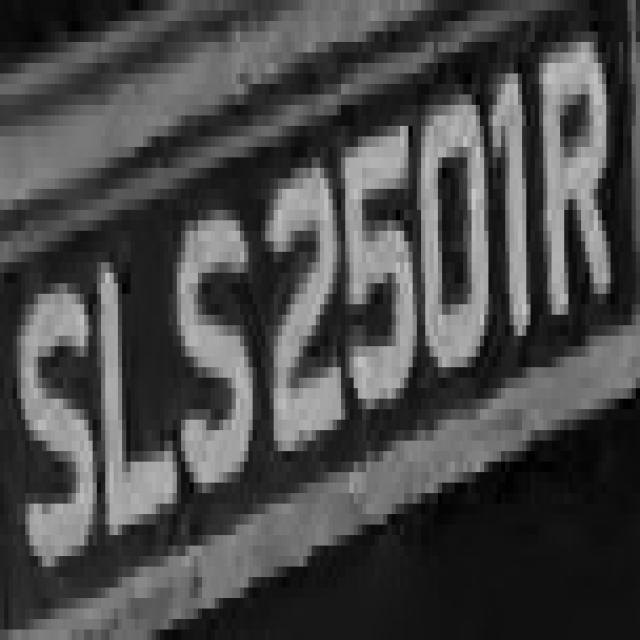0: (404, 94, 493, 399)
1: (497, 52, 539, 368)
2: (253, 147, 341, 462)
5: (332, 105, 417, 451)
L: (76, 189, 172, 535)
R: (535, 31, 623, 336)
S: (12, 231, 92, 598), (164, 178, 248, 514)
